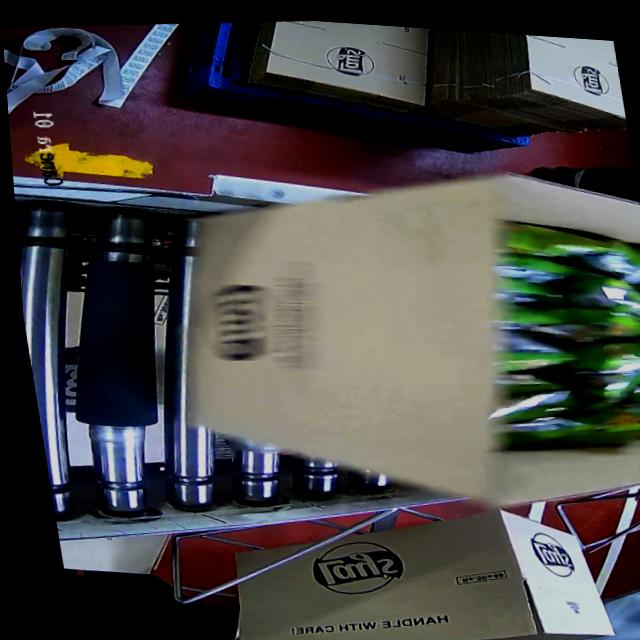YOGURT_HERB: (461, 213, 640, 462)
